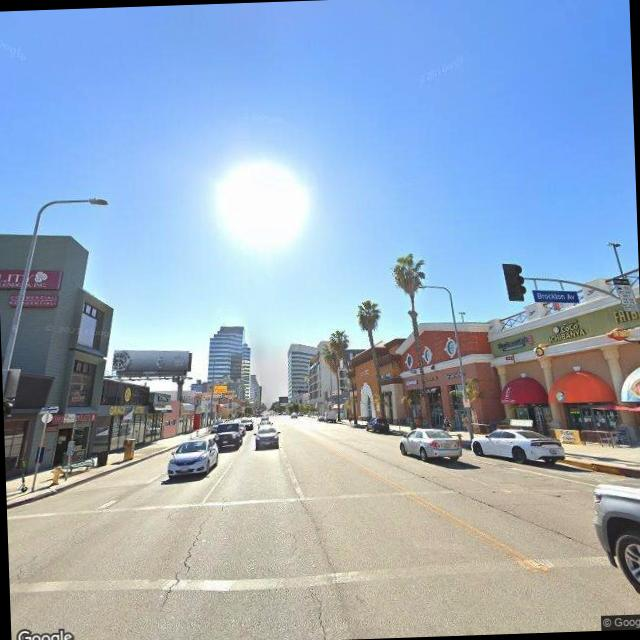crack: (154, 507, 218, 611), (304, 582, 333, 638)
